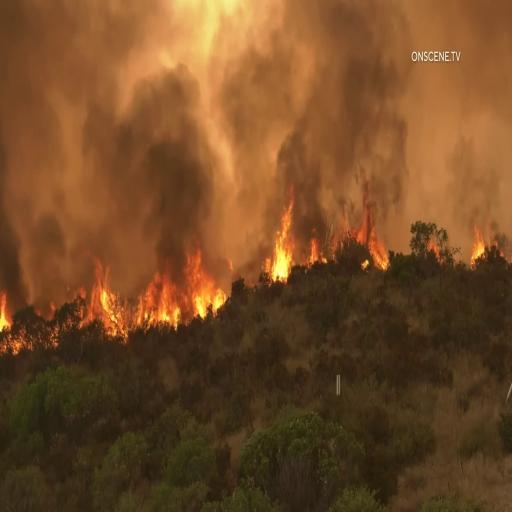fire: (78, 262, 225, 350), (260, 194, 300, 289)
smoke: (301, 12, 404, 169)
